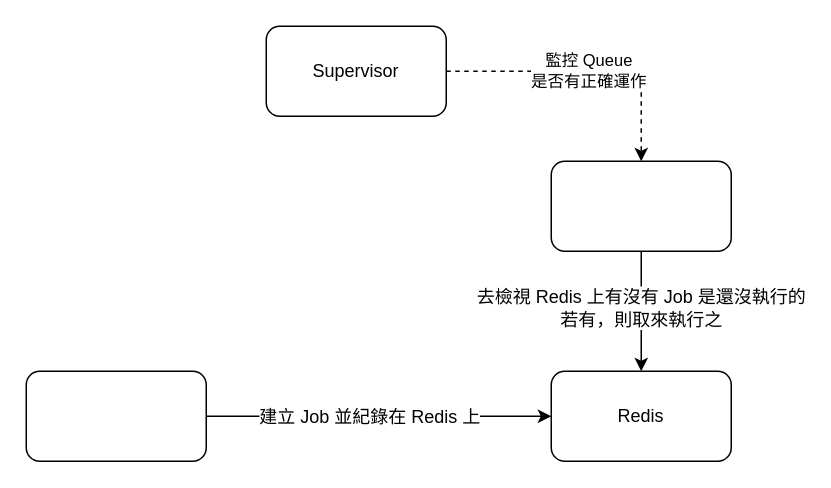
This 831x488 diagram has some shape labels left out. The box of each missing label's shape, as (x1, y1, x2, y2) in pixels:
Queue: (550, 160, 731, 251)
網路使用者: (25, 370, 206, 461)
